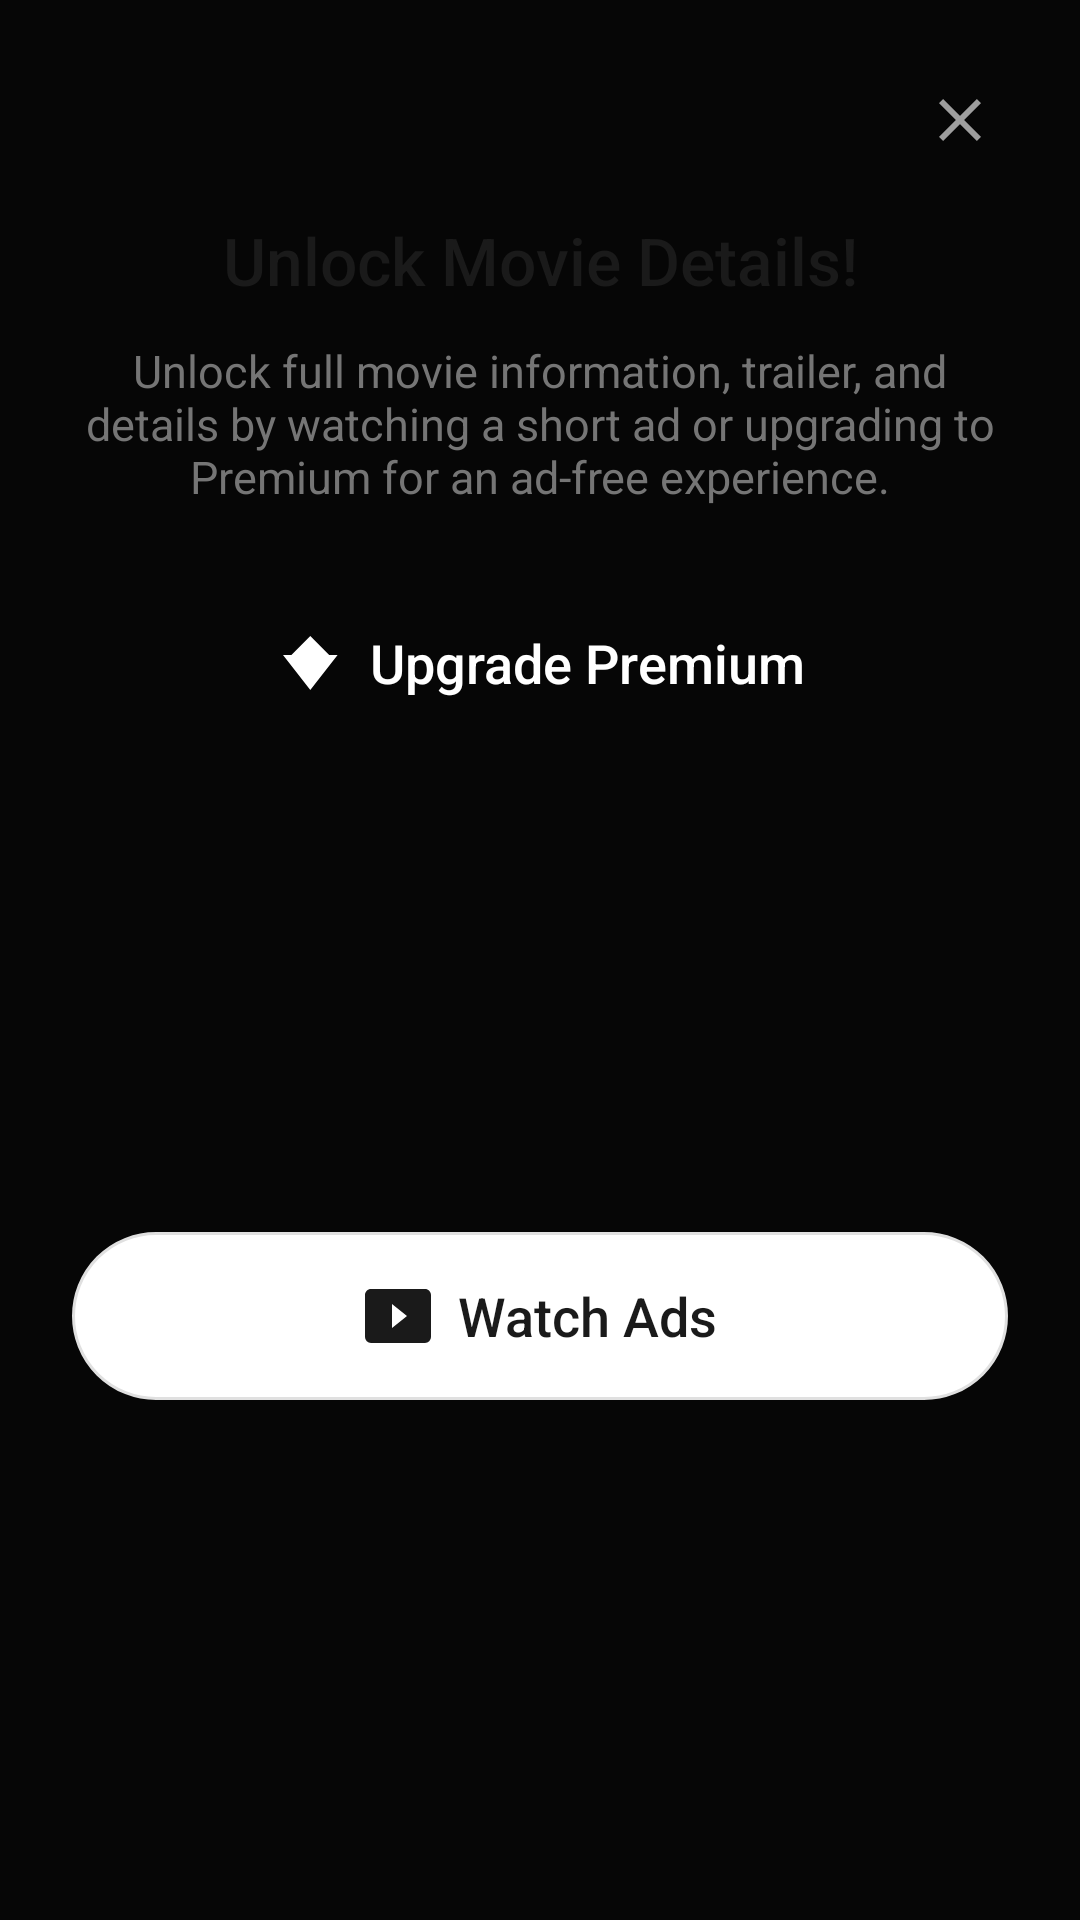

Where to tap for icons on this 1080px x 1920px app screen, as (x=x, y=y):
Close: (x=960, y=120)
Diamond Icon: (x=310, y=663)
